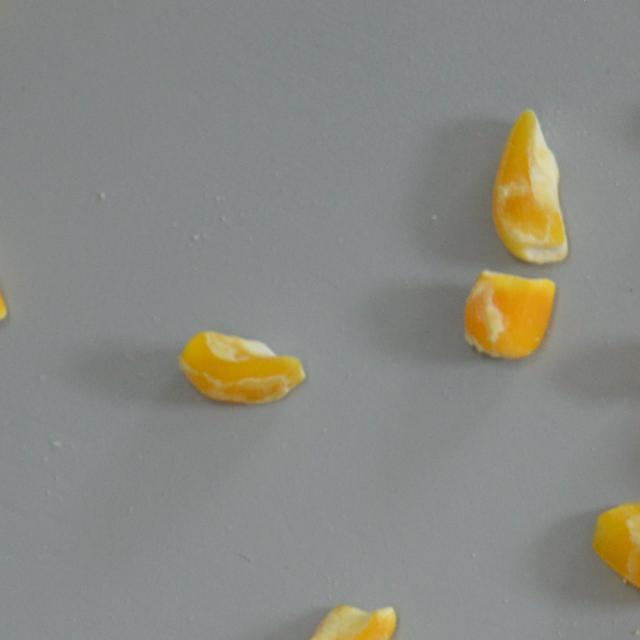dañado: (488, 100, 574, 271), (172, 322, 310, 412), (458, 266, 557, 365), (588, 494, 640, 612), (286, 595, 399, 640), (0, 209, 12, 344)
